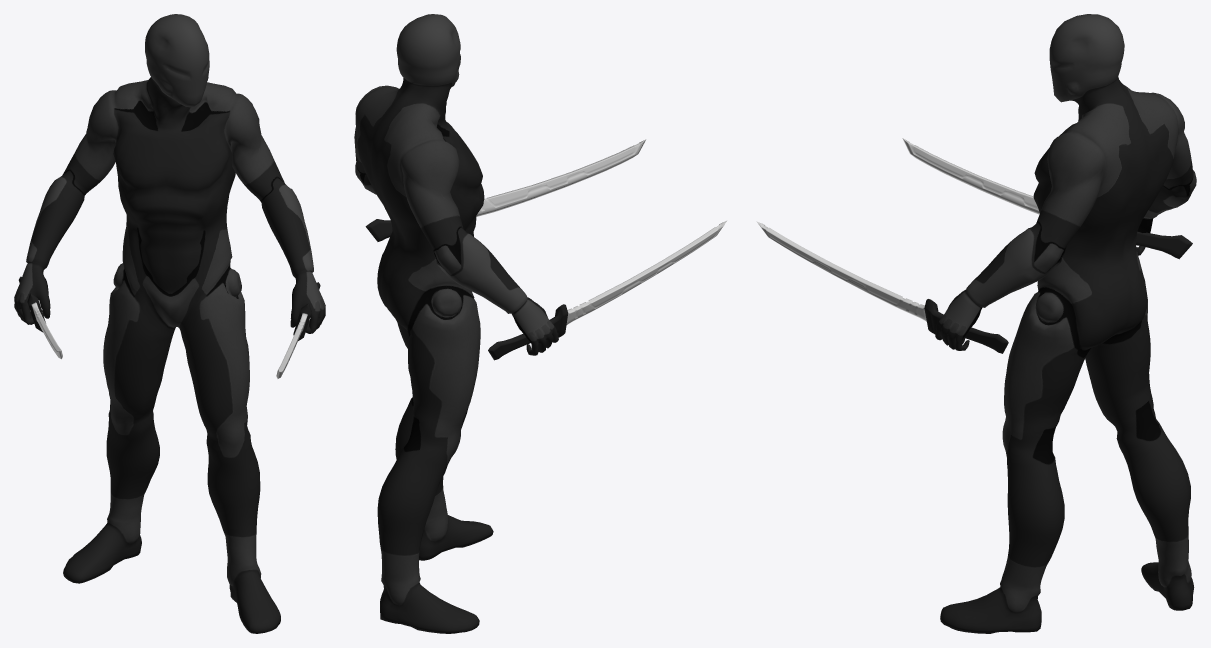
3 renders of one model, left to right at view 1: azimuth 30°, elevation 25°; view 2: azimuth 150°, elevation 25°; view 3: azimuth 270°, elevation 25°, orthographic. The views are drawn at different scales.
Visible parts, largest first — view 1: Cyborg_Ninja_Killer, Sword_l, Sword_l001; view 2: Cyborg_Ninja_Killer, Sword_l001, Sword_l; view 3: Cyborg_Ninja_Killer, Sword_l, Sword_l001.
Part boxes in pixels (x1,y1,x2,y2): Cyborg_Ninja_Killer: [14, 14, 325, 633]; Sword_l: [276, 282, 320, 378]; Sword_l001: [18, 276, 62, 359]; Cyborg_Ninja_Killer: [354, 14, 558, 633]; Sword_l001: [488, 220, 727, 360]; Sword_l: [365, 139, 646, 241]; Cyborg_Ninja_Killer: [935, 14, 1196, 633]; Sword_l: [756, 221, 1008, 353]; Sword_l001: [902, 138, 1192, 259].
Bounding box in the file's own units: 104 × 182 × 123.
2 materials, 2 textured.
